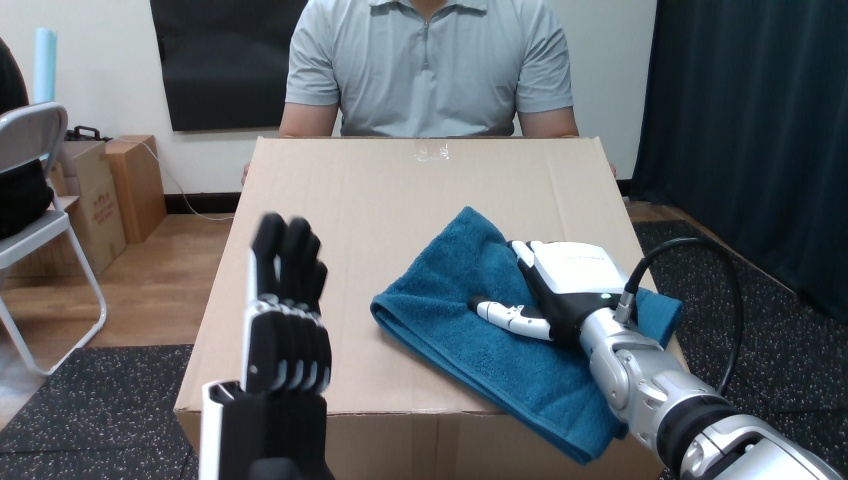left robot hand: (199, 213, 332, 479), (727, 253, 847, 476), (652, 247, 732, 385)
